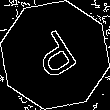P_SE: (25, 23, 85, 87)
